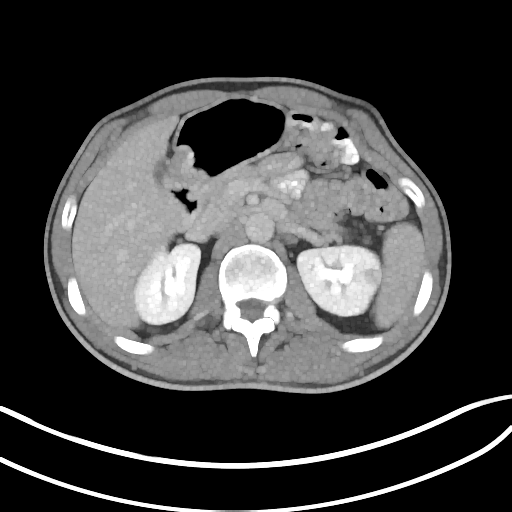Lesion: (363, 269, 383, 287)
